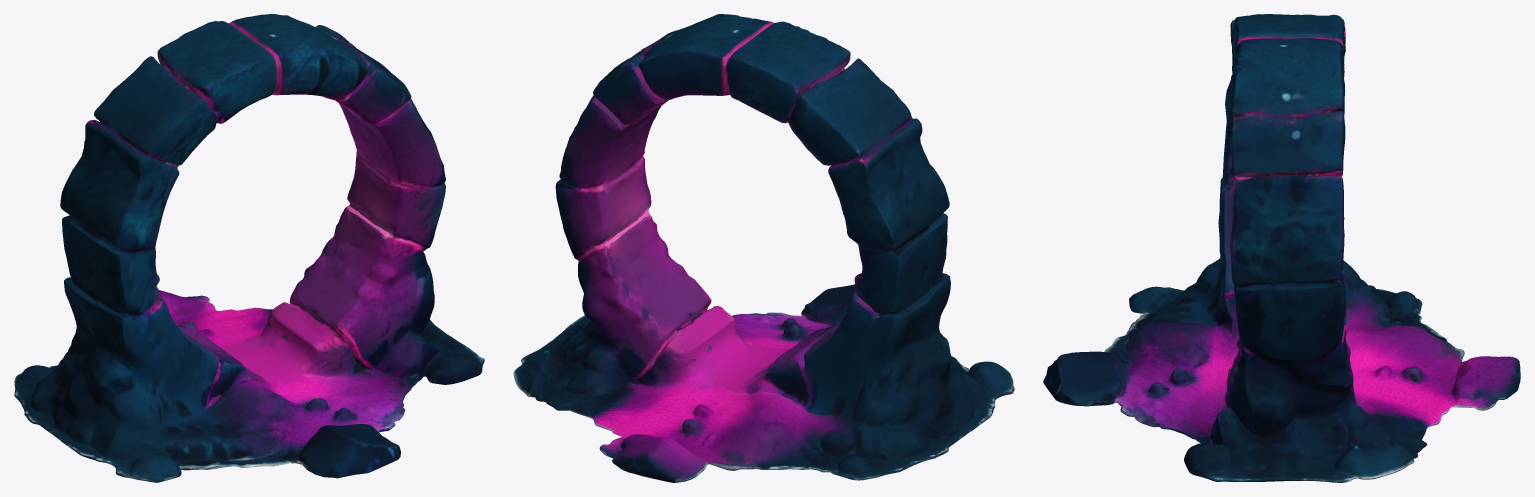
The model's file is broken-ring-generated-2026-05-17T20-56-18-499Z.medium.glb.
3 views of the same model, side by side, from view 1: azimuth 30°, elevation 25°; view 2: azimuth 150°, elevation 25°; view 3: azimuth 270°, elevation 25° (orthographic). The views are drawn at different scales.
Visible parts, largest first — view 1: temp_mesh.ply; view 2: temp_mesh.ply; view 3: temp_mesh.ply.
Boxes of the visible parts, bbox=[...] form: temp_mesh.ply: bbox=[14, 14, 484, 482]; temp_mesh.ply: bbox=[513, 14, 1014, 482]; temp_mesh.ply: bbox=[1043, 14, 1520, 482].
Size of the model in its own units: 1.94 by 1.59 by 1.96.
1 material, 1 textured.
